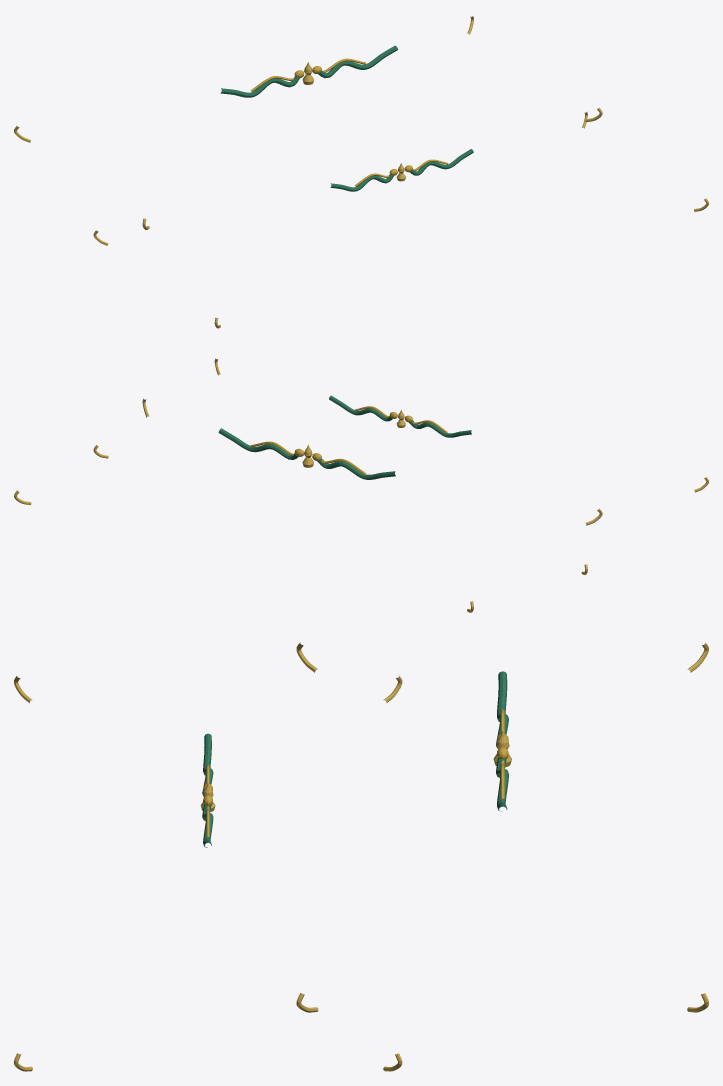
Rendered from dieude-hero.glb.
The picture shows the model from 3 angles, top to bottom: view 1: azimuth 30°, elevation 25°; view 2: azimuth 150°, elevation 25°; view 3: azimuth 270°, elevation 25°; orthographic projection. The views are drawn at different scales.
Parts seen in each view (by area): view 1: dieude_hero_ornaments; view 2: dieude_hero_ornaments; view 3: dieude_hero_ornaments.
Part boxes in pixels (x1,y1,x2,y2): dieude_hero_ornaments: (14, 16, 708, 328); dieude_hero_ornaments: (14, 358, 708, 612); dieude_hero_ornaments: (14, 642, 708, 1071).
Bounding box in the file's own units: 29.12 × 5.57 × 22.41.
